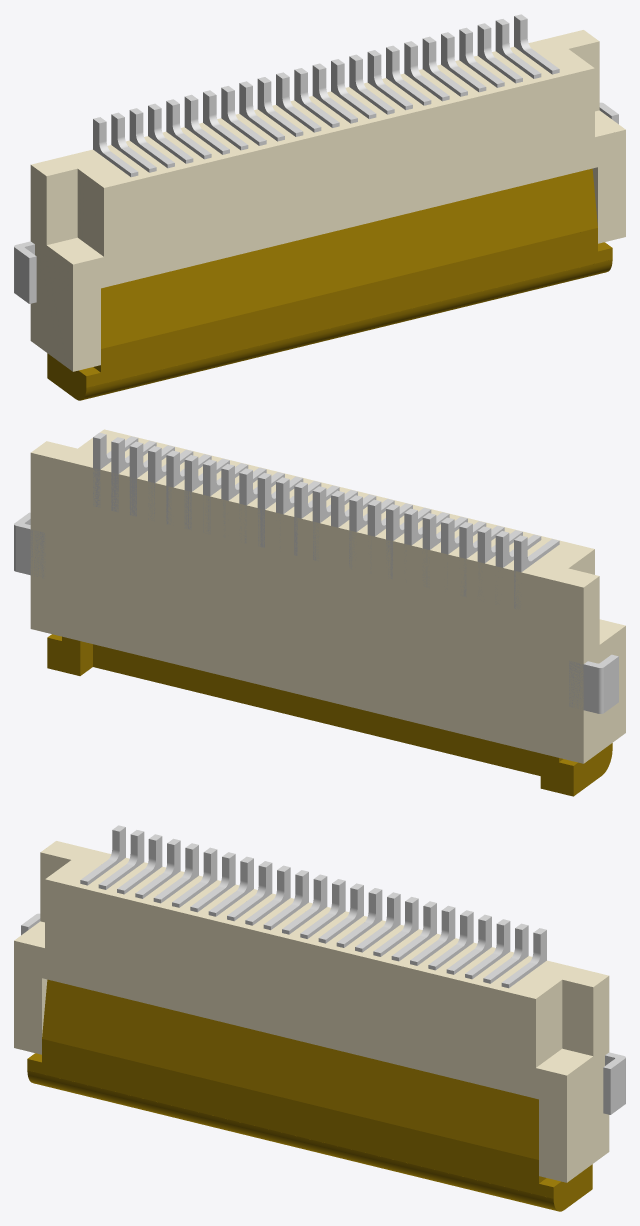
File: Hirose_FH12-24S-0.5SH_1x24-1MP_P0.50mm_Horizontal.glb
The picture shows the model from 3 angles, top to bottom: view 1: azimuth 30°, elevation 25°; view 2: azimuth 150°, elevation 25°; view 3: azimuth 330°, elevation 25°; orthographic projection.
Parts seen in each view (by area): view 1: Shape_IndexedFaceSet.005, Shape_IndexedFaceSet.023, Shape_IndexedFaceSet.016, Shape_IndexedFaceSet, Shape_IndexedFaceSet.018, Shape_IndexedFaceSet.008, Shape_IndexedFaceSet.007, Shape_IndexedFaceSet.006, Shape_IndexedFaceSet.020, Shape_IndexedFaceSet.014, Shape_IndexedFaceSet.325, Shape_IndexedFaceSet.003; view 2: Shape_IndexedFaceSet.001, Shape_IndexedFaceSet.030, Shape_IndexedFaceSet, Shape_IndexedFaceSet.008, Shape_IndexedFaceSet.332, Shape_IndexedFaceSet.027, Shape_IndexedFaceSet.026, Shape_IndexedFaceSet.323, Shape_IndexedFaceSet.020, Shape_IndexedFaceSet.325, Shape_IndexedFaceSet.294, Shape_IndexedFaceSet.270 (+2 smaller); view 3: Shape_IndexedFaceSet.005, Shape_IndexedFaceSet.023, Shape_IndexedFaceSet.016, Shape_IndexedFaceSet, Shape_IndexedFaceSet.018, Shape_IndexedFaceSet.002, Shape_IndexedFaceSet.003, Shape_IndexedFaceSet.004, Shape_IndexedFaceSet.017, Shape_IndexedFaceSet.010, Shape_IndexedFaceSet.316, Shape_IndexedFaceSet.007.
Boxes of the visible parts, x1,y1,x2,y2 form: Shape_IndexedFaceSet.005: [73, 68, 625, 371]; Shape_IndexedFaceSet.023: [101, 168, 597, 348]; Shape_IndexedFaceSet.016: [86, 228, 612, 387]; Shape_IndexedFaceSet: [31, 30, 598, 187]; Shape_IndexedFaceSet.018: [81, 259, 612, 400]; Shape_IndexedFaceSet.008: [30, 165, 72, 371]; Shape_IndexedFaceSet.007: [46, 169, 77, 244]; Shape_IndexedFaceSet.006: [77, 169, 103, 256]; Shape_IndexedFaceSet.020: [47, 353, 86, 400]; Shape_IndexedFaceSet.014: [47, 237, 103, 264]; Shape_IndexedFaceSet.325: [14, 248, 29, 303]; Shape_IndexedFaceSet.003: [569, 41, 599, 111]; Shape_IndexedFaceSet.001: [30, 453, 583, 763]; Shape_IndexedFaceSet.030: [93, 644, 540, 775]; Shape_IndexedFaceSet: [31, 429, 598, 587]; Shape_IndexedFaceSet.008: [583, 576, 625, 763]; Shape_IndexedFaceSet.332: [569, 661, 598, 713]; Shape_IndexedFaceSet.027: [540, 753, 573, 796]; Shape_IndexedFaceSet.026: [47, 636, 80, 675]; Shape_IndexedFaceSet.323: [16, 526, 45, 578]; Shape_IndexedFaceSet.020: [573, 743, 612, 795]; Shape_IndexedFaceSet.325: [604, 656, 618, 712]; Shape_IndexedFaceSet.294: [111, 441, 118, 511]; Shape_IndexedFaceSet.270: [184, 459, 191, 529]; Shape_IndexedFaceSet.005: [14, 879, 566, 1182]; Shape_IndexedFaceSet.023: [42, 979, 538, 1159]; Shape_IndexedFaceSet.016: [27, 1039, 553, 1198]; Shape_IndexedFaceSet: [41, 841, 608, 998]; Shape_IndexedFaceSet.018: [27, 1070, 558, 1211]; Shape_IndexedFaceSet.002: [567, 976, 609, 1182]; Shape_IndexedFaceSet.003: [562, 980, 593, 1055]; Shape_IndexedFaceSet.004: [536, 980, 562, 1067]; Shape_IndexedFaceSet.017: [553, 1164, 592, 1211]; Shape_IndexedFaceSet.010: [536, 1048, 592, 1075]; Shape_IndexedFaceSet.316: [610, 1059, 625, 1114]; Shape_IndexedFaceSet.007: [40, 852, 70, 922].
Size of the model in its own units: 6.34 by 2.52 by 0.7875.
